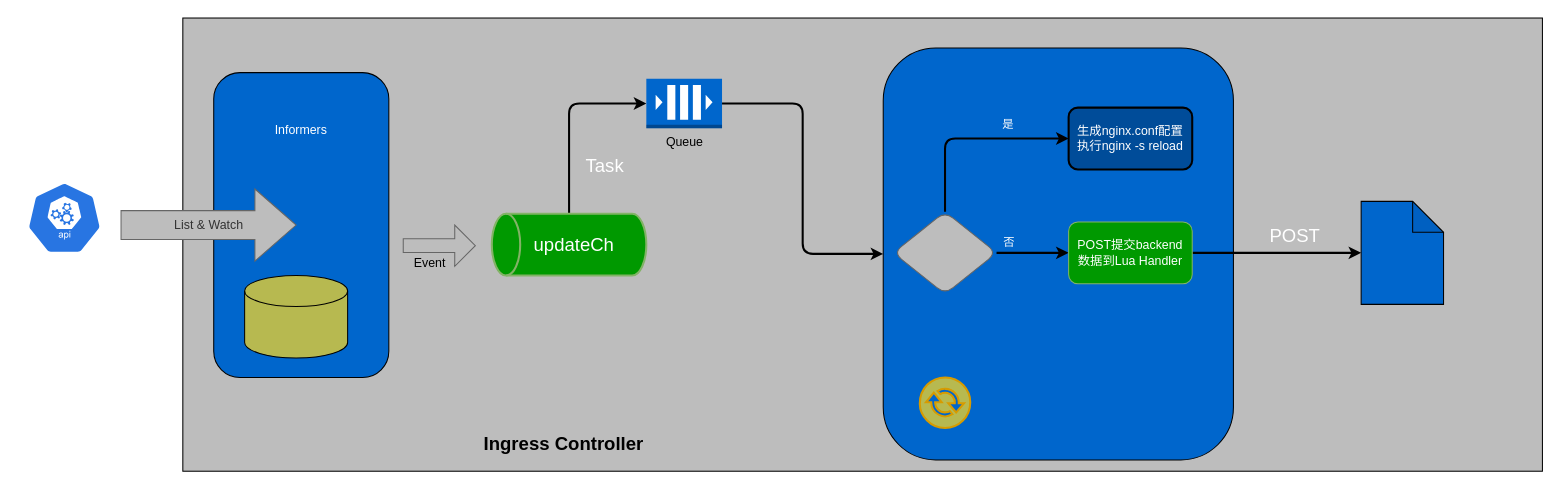
This 1560x489 diagram has some shape labels left out. Each missing label, with the centre of its shape:
Lua Handler: [1402,252]
Store: [296,316]
是否重新 生成配置文件: [944,252]
